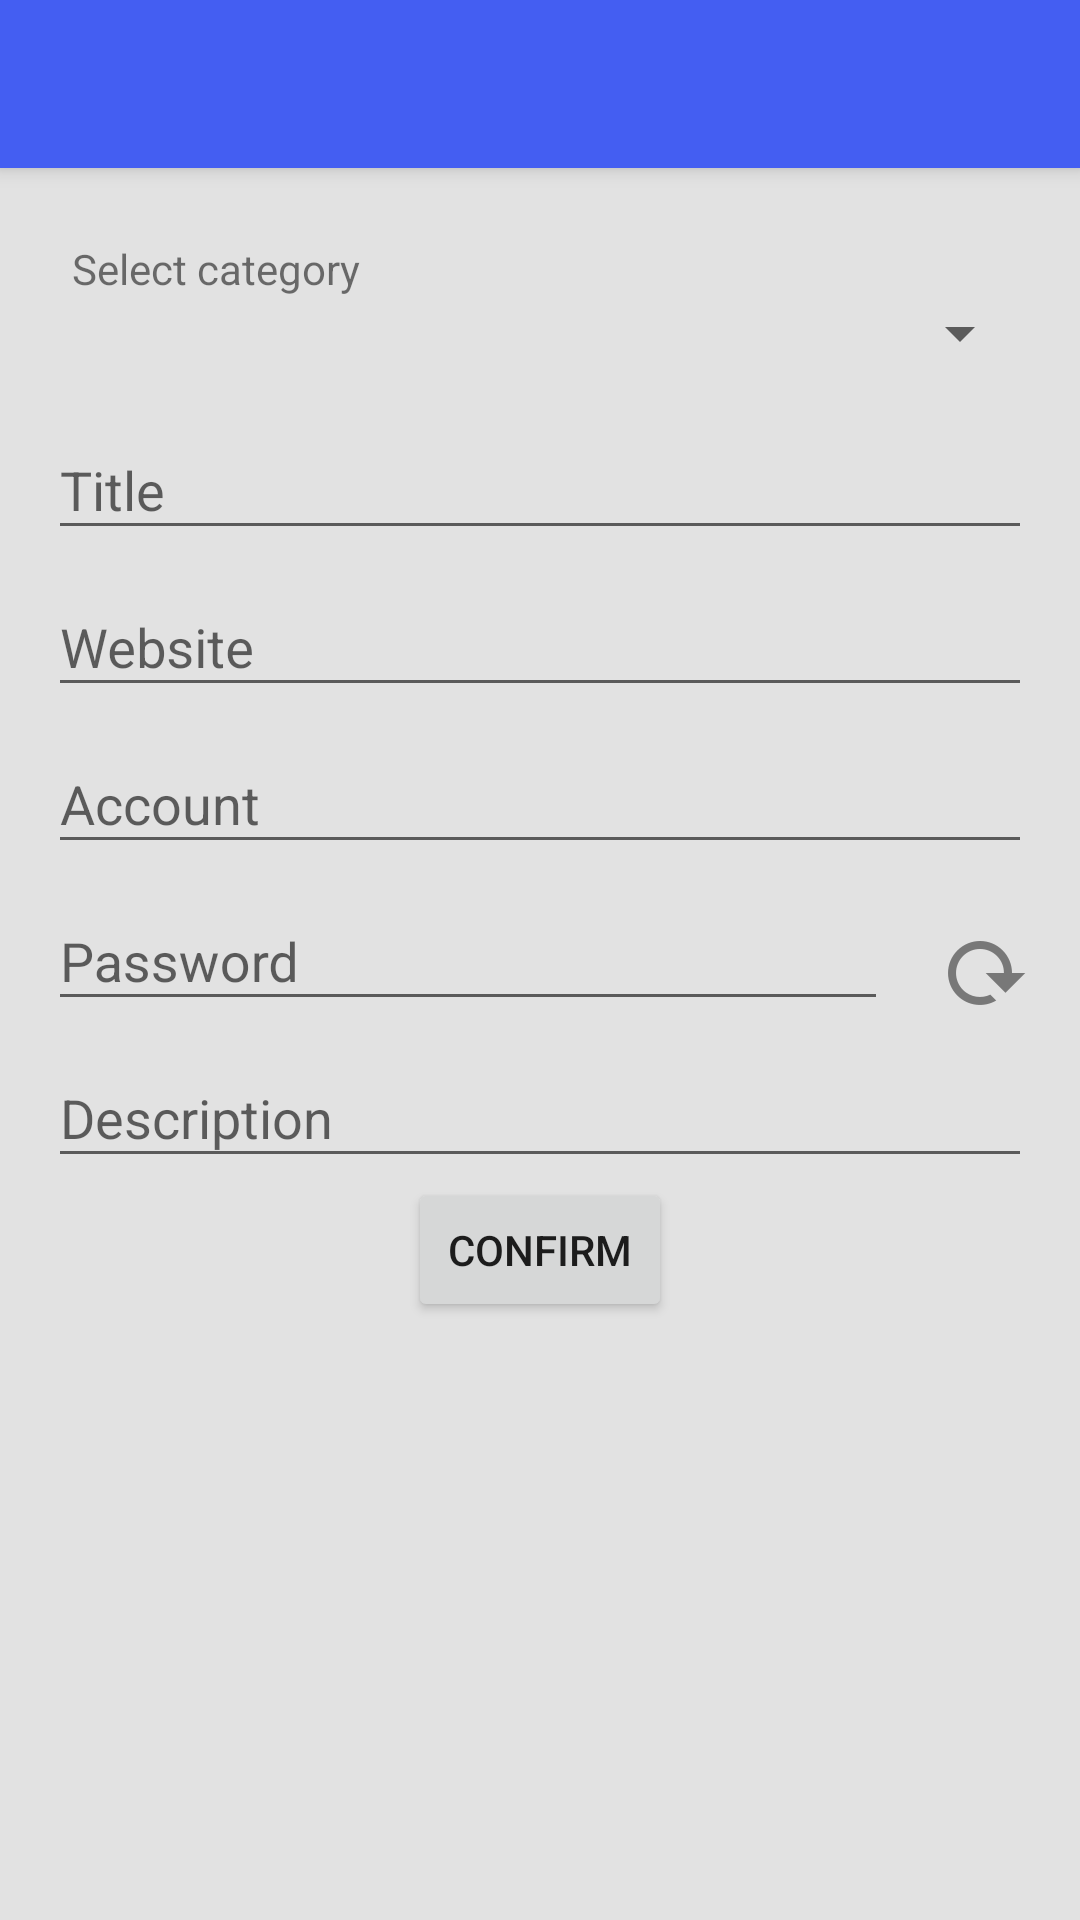

Where to tap for icons on this 1080x1920 app screen, as (x,y):
reload: (986,973)
